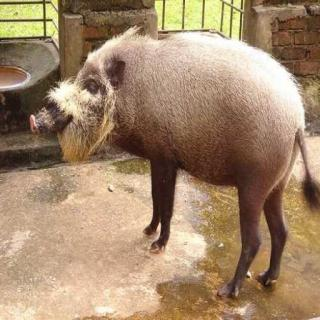Pig: (22, 26, 320, 292)
